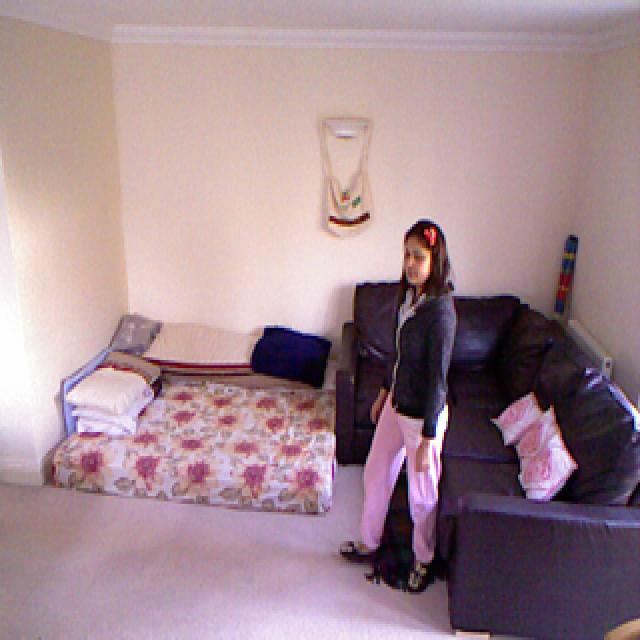Stand: (327, 204, 469, 623)
